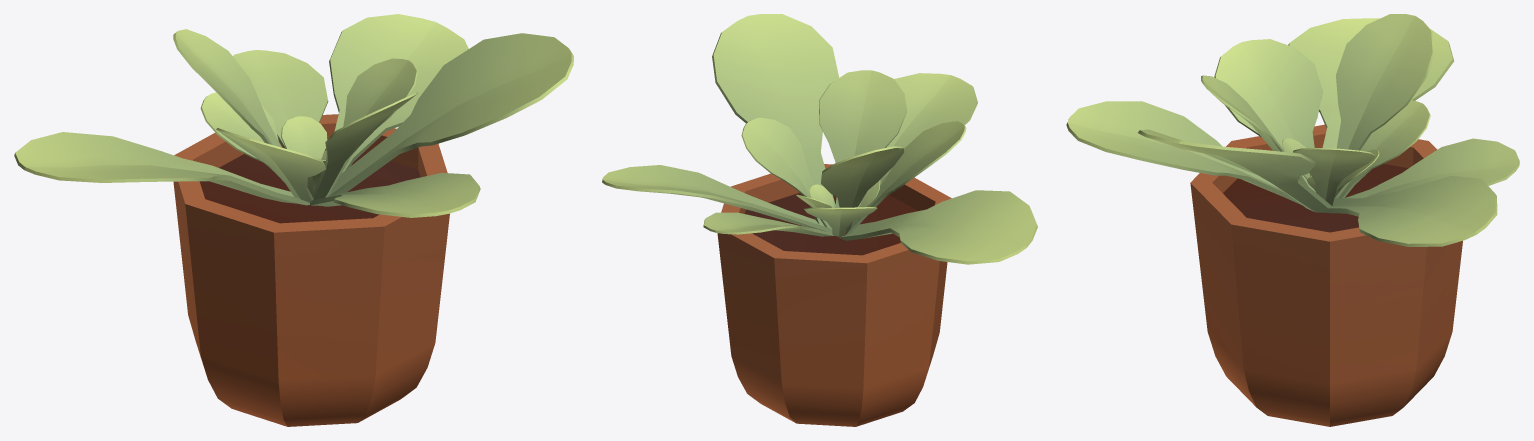
The model's file is Plant_03.fbx.
3 renders of one model, left to right at view 1: azimuth 30°, elevation 25°; view 2: azimuth 150°, elevation 25°; view 3: azimuth 270°, elevation 25°, orthographic. The views are drawn at different scales.
Parts seen in each view (by area): view 1: Plant_03; view 2: Plant_03; view 3: Plant_03.
Part boxes in pixels (left/top/right/bottom): Plant_03: left=14, top=14, right=573, bottom=426; Plant_03: left=602, top=14, right=1037, bottom=426; Plant_03: left=1066, top=14, right=1519, bottom=426.
Size of the model in its own units: 85.45 by 60.75 by 74.8.
